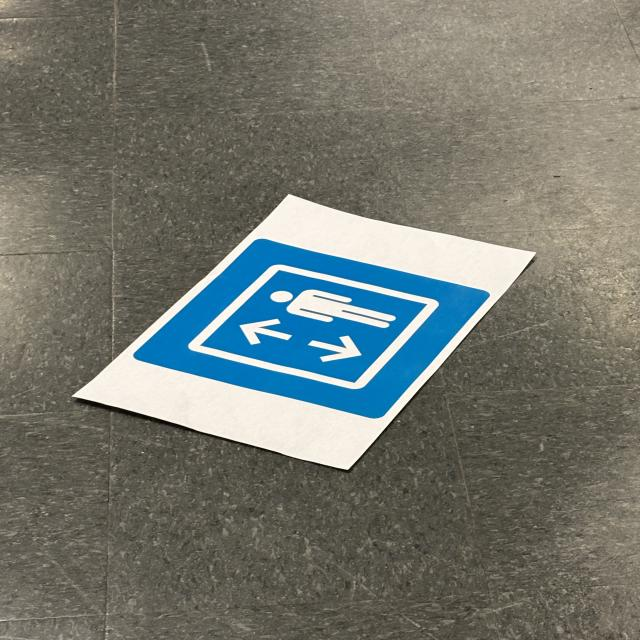elevator: (134, 238, 496, 421)
